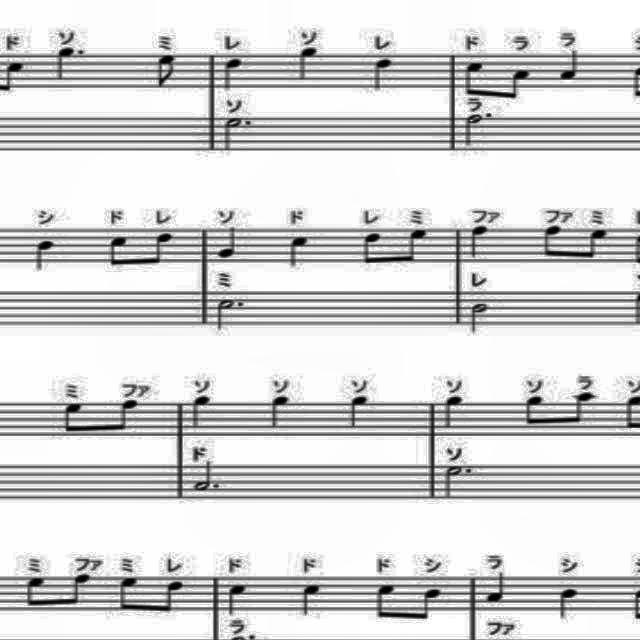Eighth-note: (506, 62, 536, 110), (536, 220, 566, 268), (149, 227, 181, 270), (418, 581, 446, 629), (373, 580, 402, 626), (457, 57, 488, 99), (158, 578, 190, 618), (566, 390, 598, 430), (112, 574, 144, 614), (358, 229, 387, 271), (404, 227, 432, 270), (582, 226, 610, 268), (112, 398, 144, 434), (102, 232, 130, 272), (66, 570, 94, 610), (150, 50, 178, 88), (59, 399, 87, 436), (522, 391, 546, 431), (24, 573, 48, 613)
Half-dot: (191, 455, 225, 501), (216, 117, 256, 155), (440, 463, 478, 502), (462, 109, 494, 147), (214, 299, 248, 333)
Half-note: (464, 299, 492, 335)
Quarter-dot: (54, 44, 86, 80)
Quarter-note: (346, 392, 376, 436), (461, 222, 492, 264), (282, 232, 312, 274), (183, 392, 214, 432), (218, 52, 246, 96), (216, 224, 244, 264), (442, 392, 470, 432), (296, 580, 324, 620), (555, 48, 585, 84), (296, 45, 324, 83), (224, 579, 252, 617), (482, 568, 510, 606), (556, 587, 584, 625), (370, 57, 396, 95), (269, 393, 295, 431), (32, 238, 56, 278)
